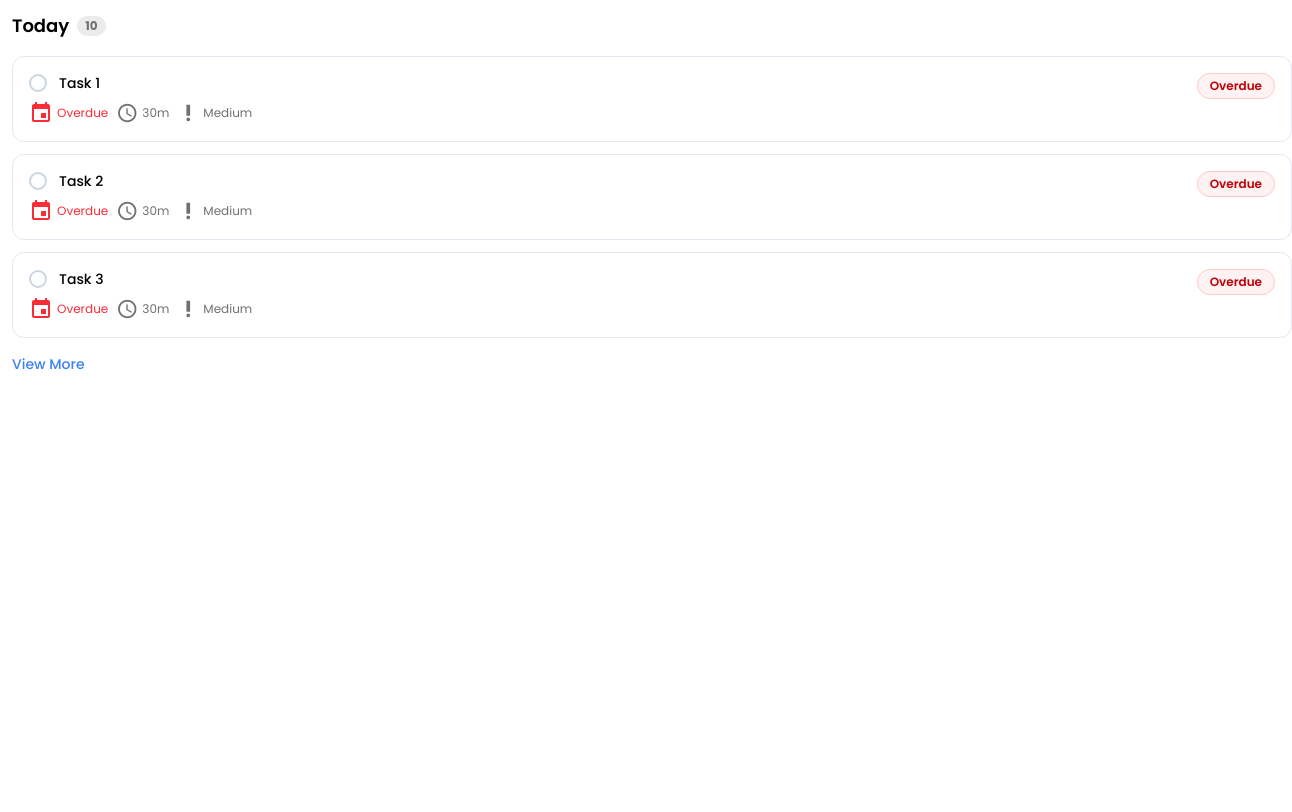
Scenario: TaskListSection › should expand tasks when View More clicked
This screenshot has width=1292, height=812.
Click the button "View More": (48, 364) [12,354,84,374]
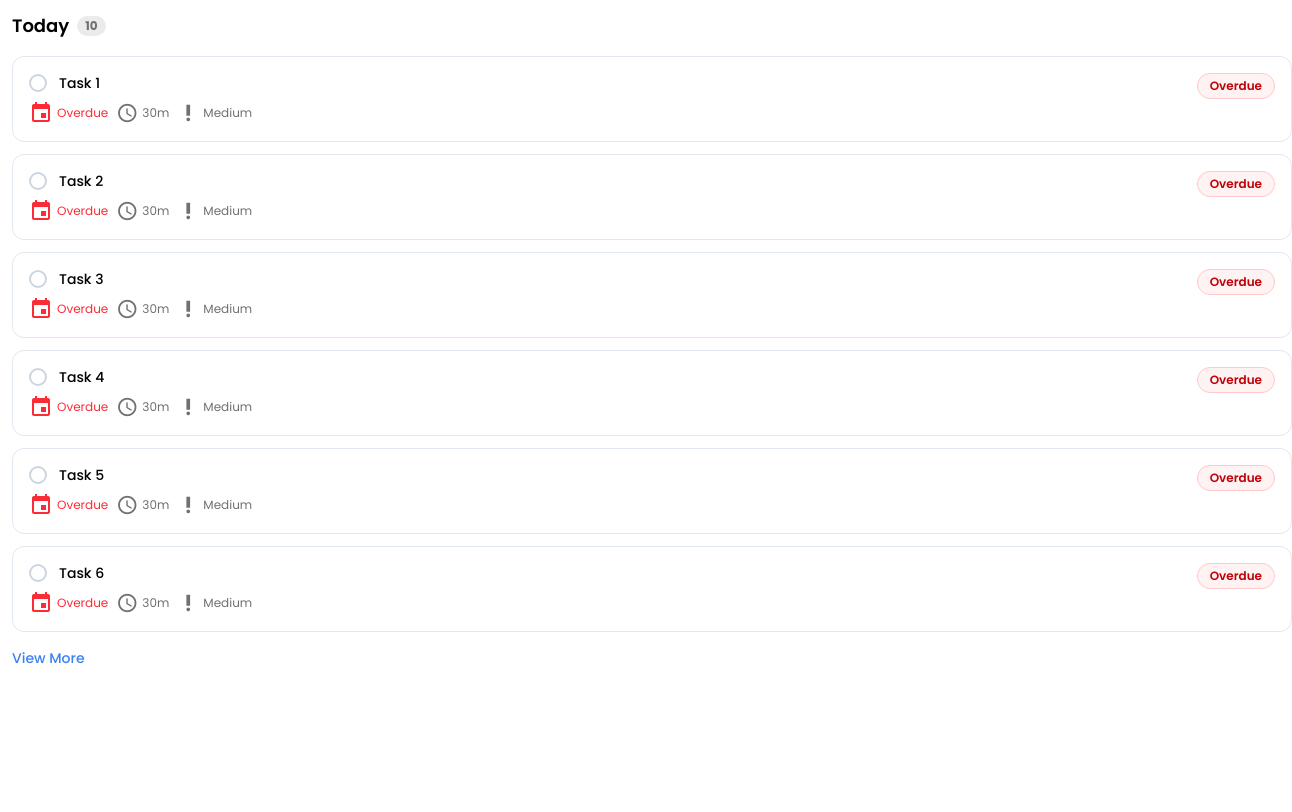
Now the text "Task 4" is shown, box [59,367,104,387]
Now the text "Task 6" is shown, box [59,563,104,583]
